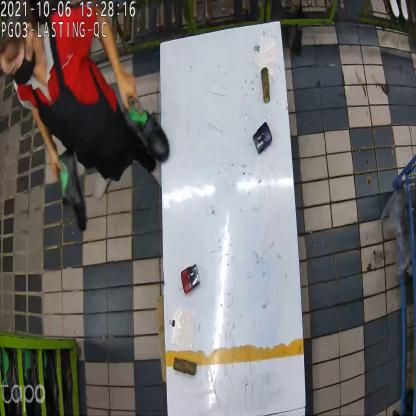stamp: (180, 261, 201, 297), (254, 121, 273, 155)
